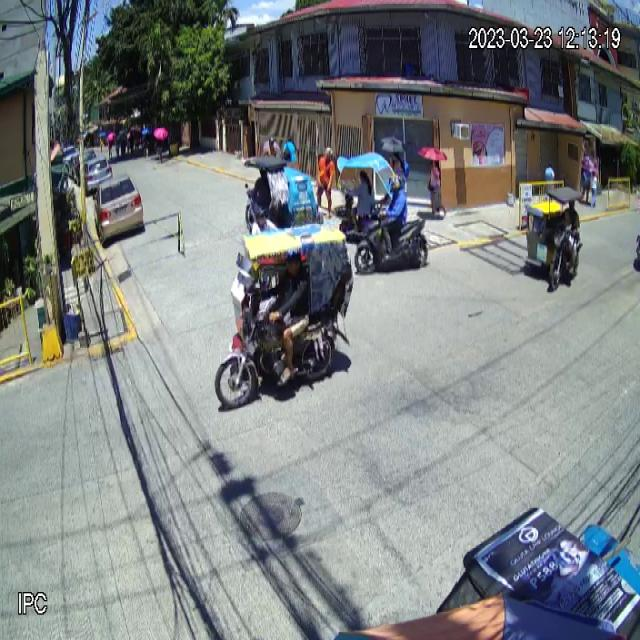Car: (92, 173, 144, 240)
Motorcycle: (354, 204, 429, 274)
Tricycle: (211, 218, 352, 414), (244, 155, 325, 244), (524, 186, 583, 291)
